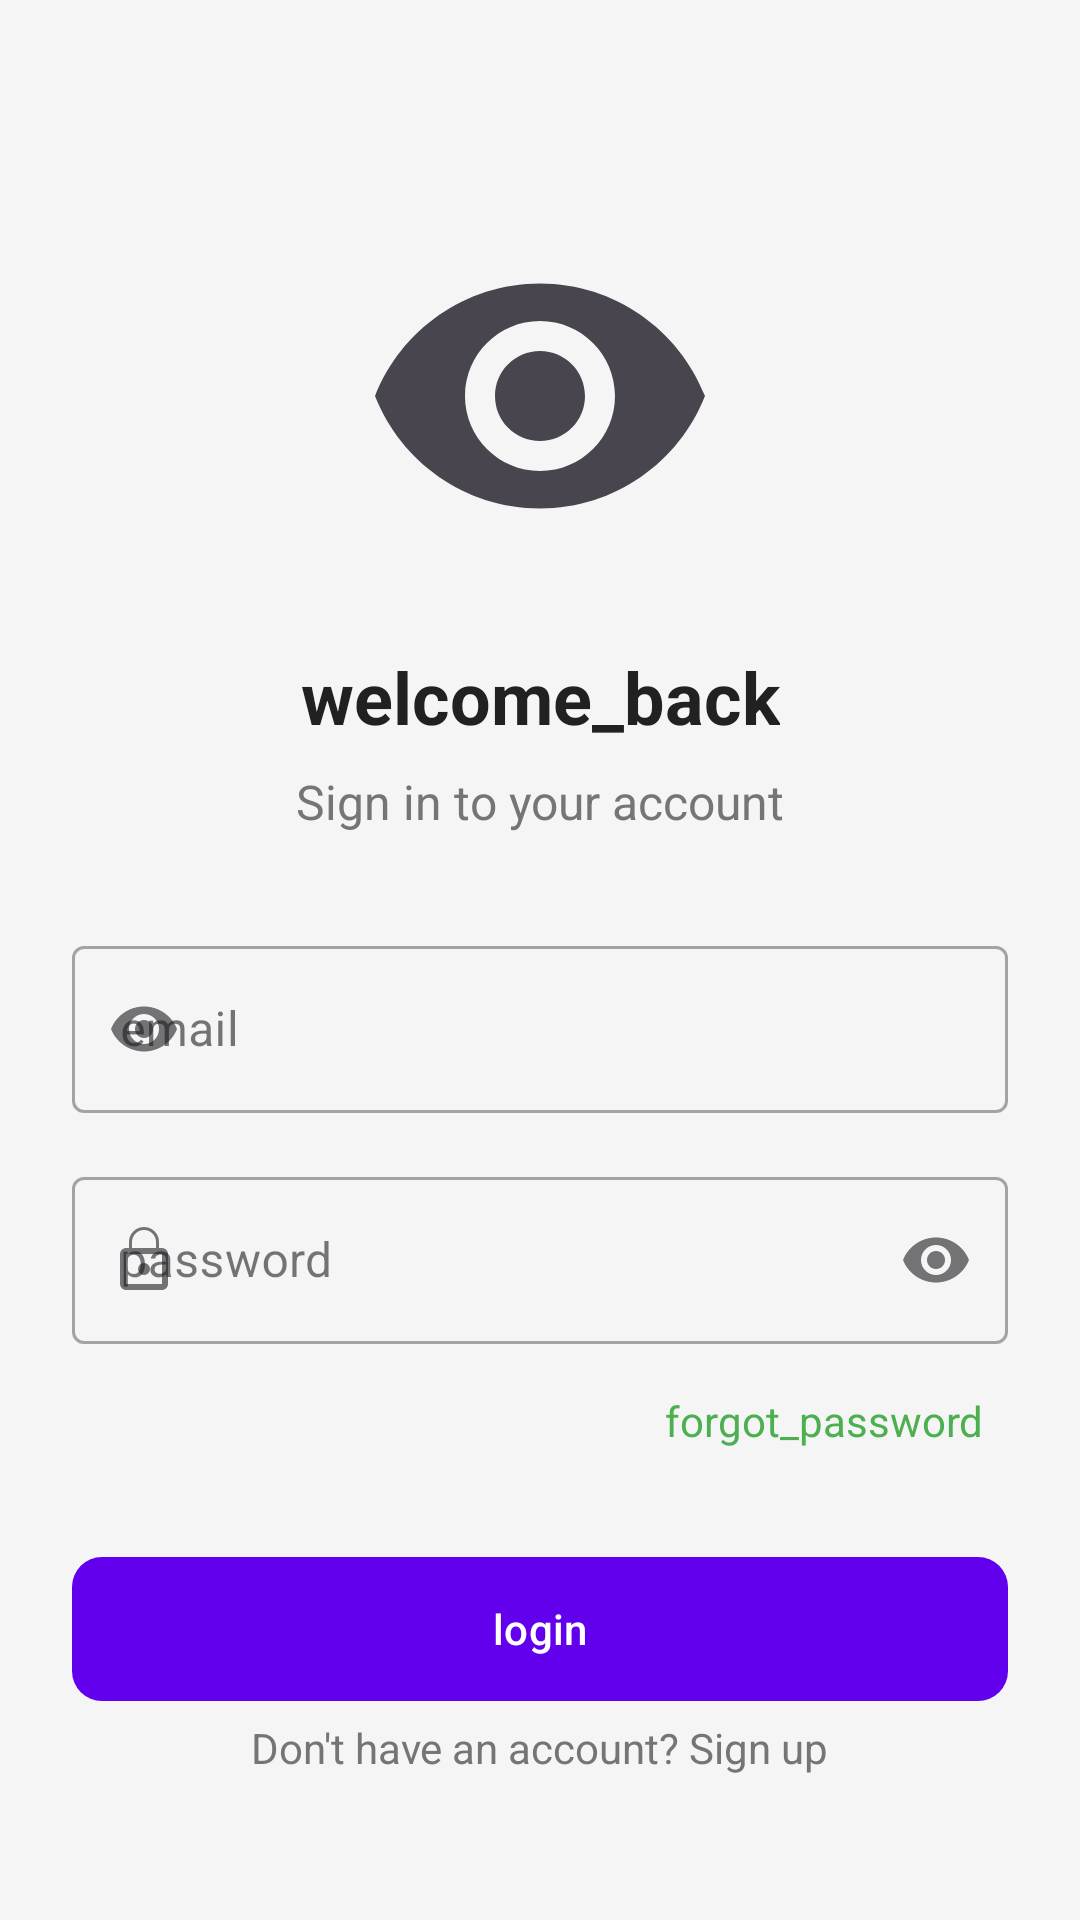

Point at icon controls on the screen. Image size 1080*1920, points as (x=x, y=y).
eye: (x=540, y=396)
